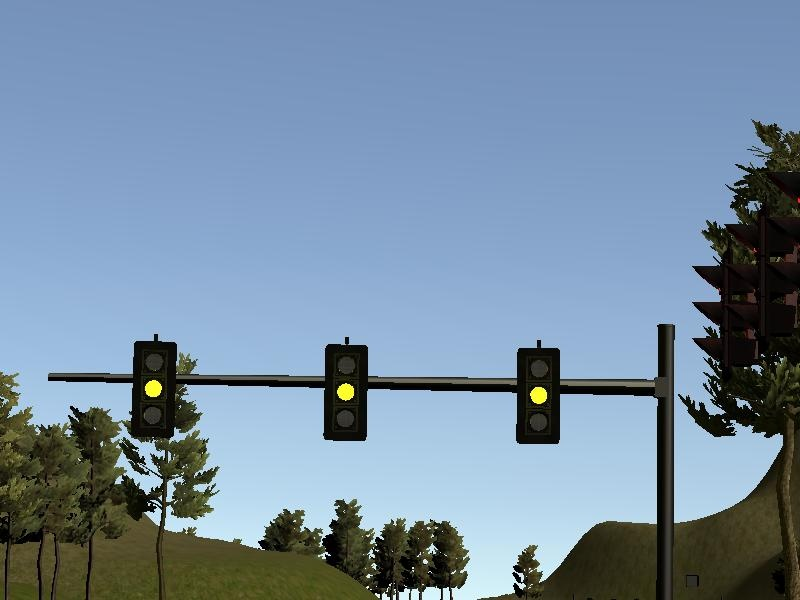YELLOW: (131, 334, 179, 439), (321, 335, 369, 440), (513, 340, 561, 445)
